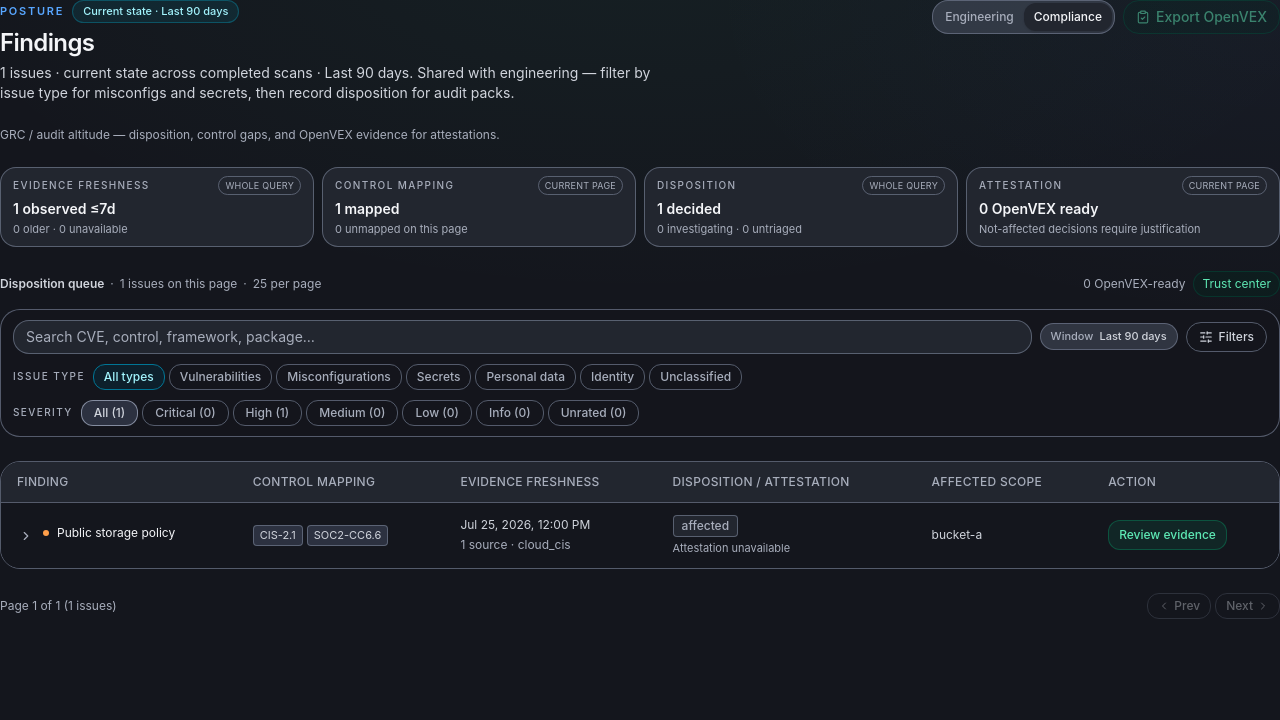
Test: FindingsPage › gives Compliance distinct columns, actions, and an evidence-first drawer
Expected: the text "Disposition queue" is shown, [0,276,104,292]
Expected: the column heading "Control mapping" is shown, [237,462,444,502]
Step 1. Click the button "Review evidence" → [1168, 535], box [1108,520,1227,550]
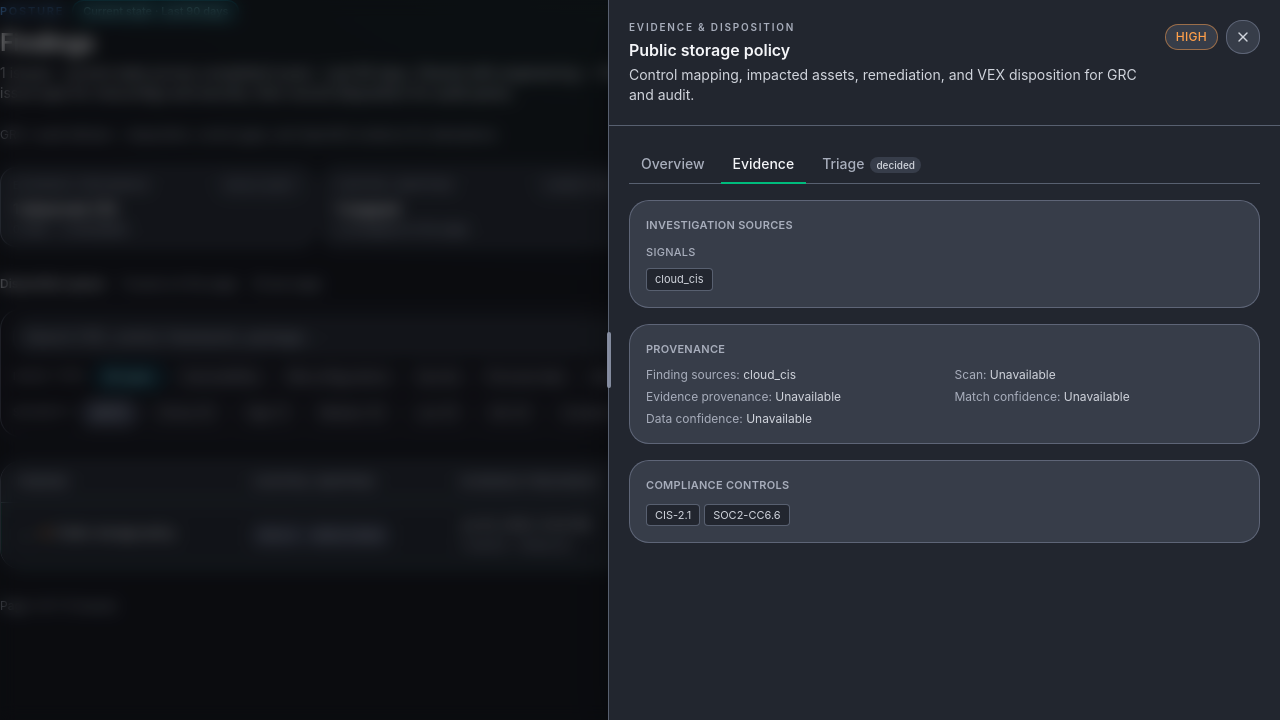
Expected: the heading "Compliance controls" is shown, [646,478,789,492]
Expected: the text "SOC2-CC6.6" is shown, [704,504,790,526]
